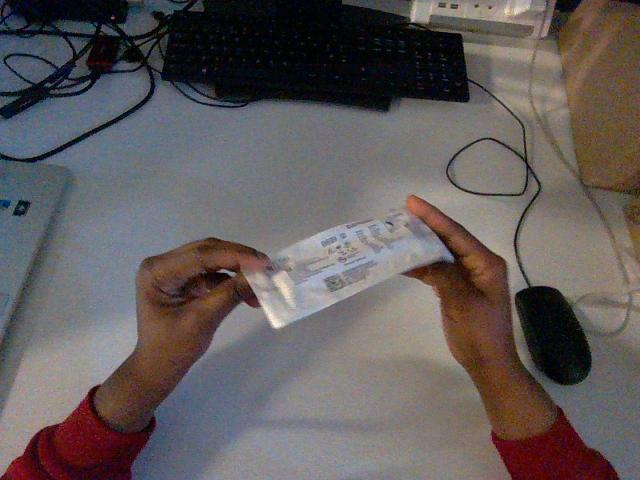syringe: (244, 209, 453, 327)
